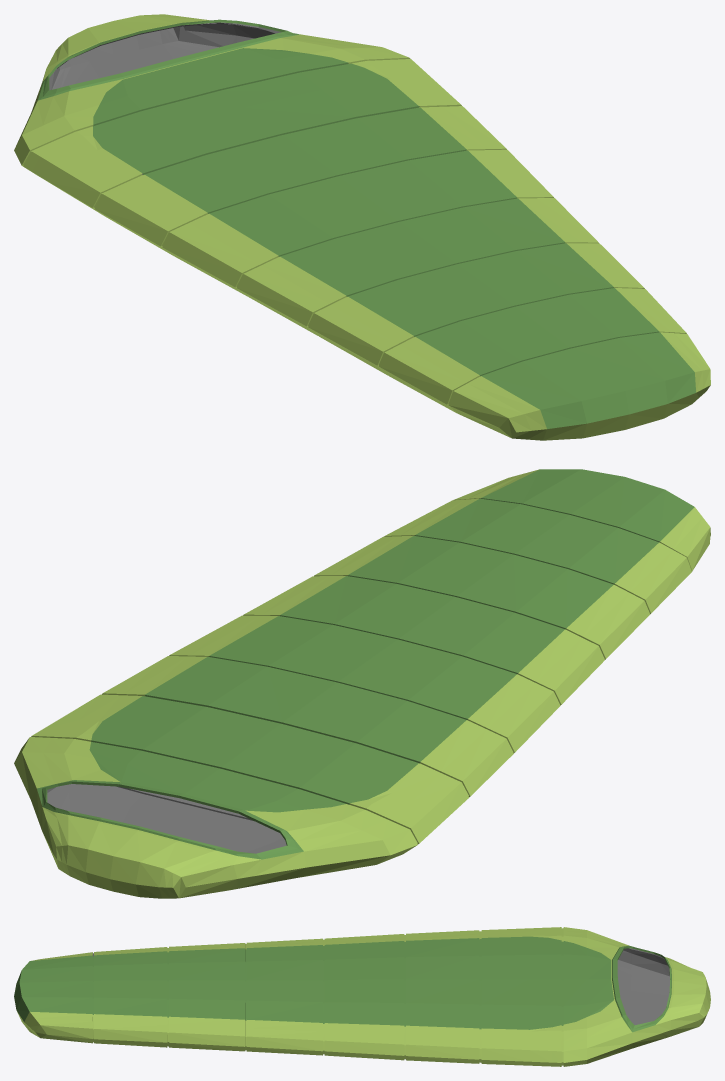
The model's file is sweethome3d-scopia-sleeping-bag.glb.
The picture shows the model from 3 angles, top to bottom: view 1: azimuth 30°, elevation 25°; view 2: azimuth 150°, elevation 25°; view 3: azimuth 270°, elevation 25°; orthographic projection. The views are drawn at different scales.
Parts seen in each view (by area): view 1: Circle; view 2: Circle; view 3: Circle.
Part boxes in pixels (box(x1,y1,x2,y2)): Circle: box(14, 14, 710, 440); Circle: box(14, 469, 710, 898); Circle: box(14, 927, 710, 1066).
Bounding box in the file's own units: 88.16 × 10.07 × 200.
